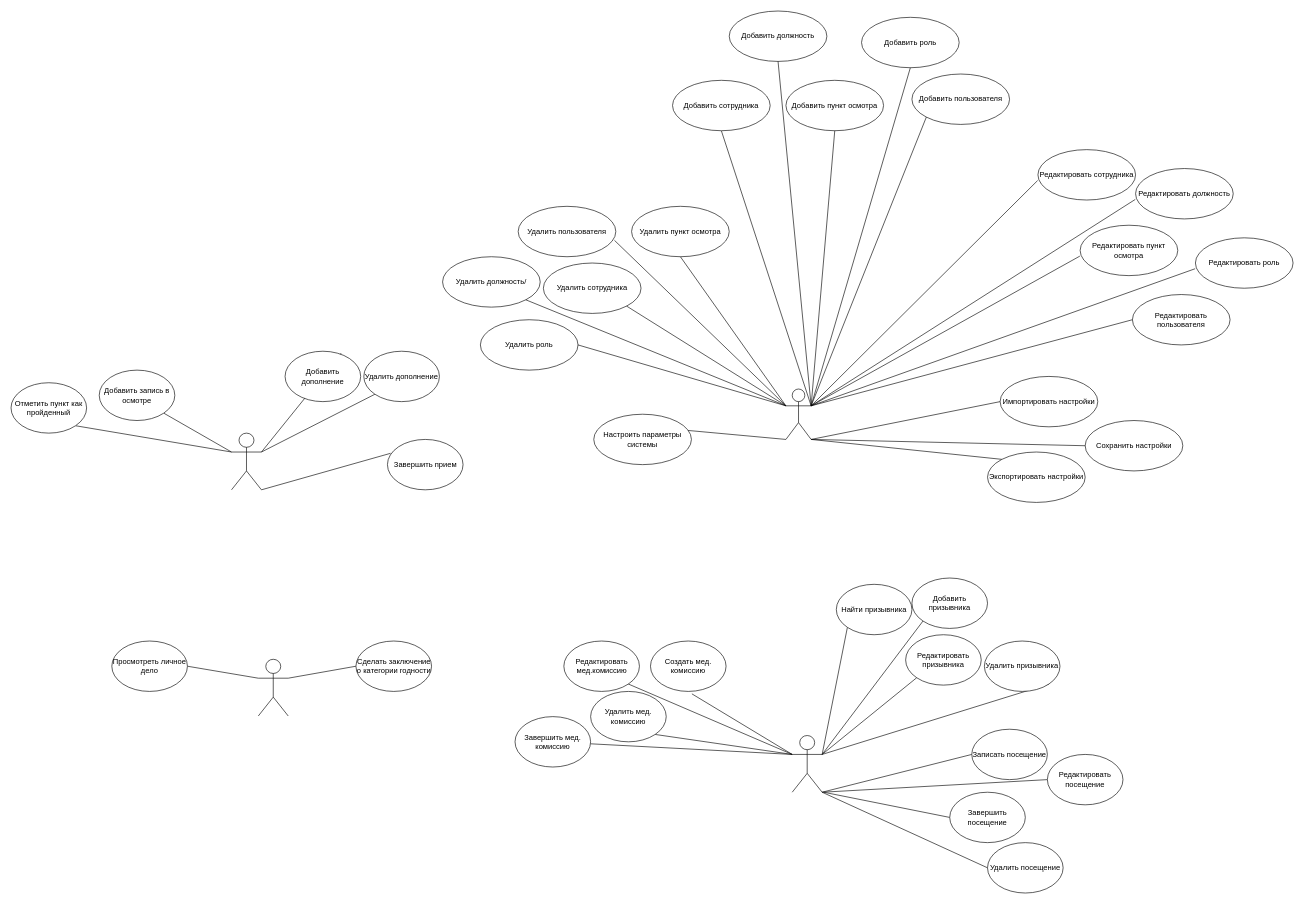
Image size: 1304x904. Some labels were removed from this diagram. The centre of each missing label's shape, as x and y in pixels:
"Администратор" goes at point 798,413.
"Врач" goes at point 246,461.
"Комиссия" goes at point 273,687.
"Регистрирующий" goes at point 807,763.
